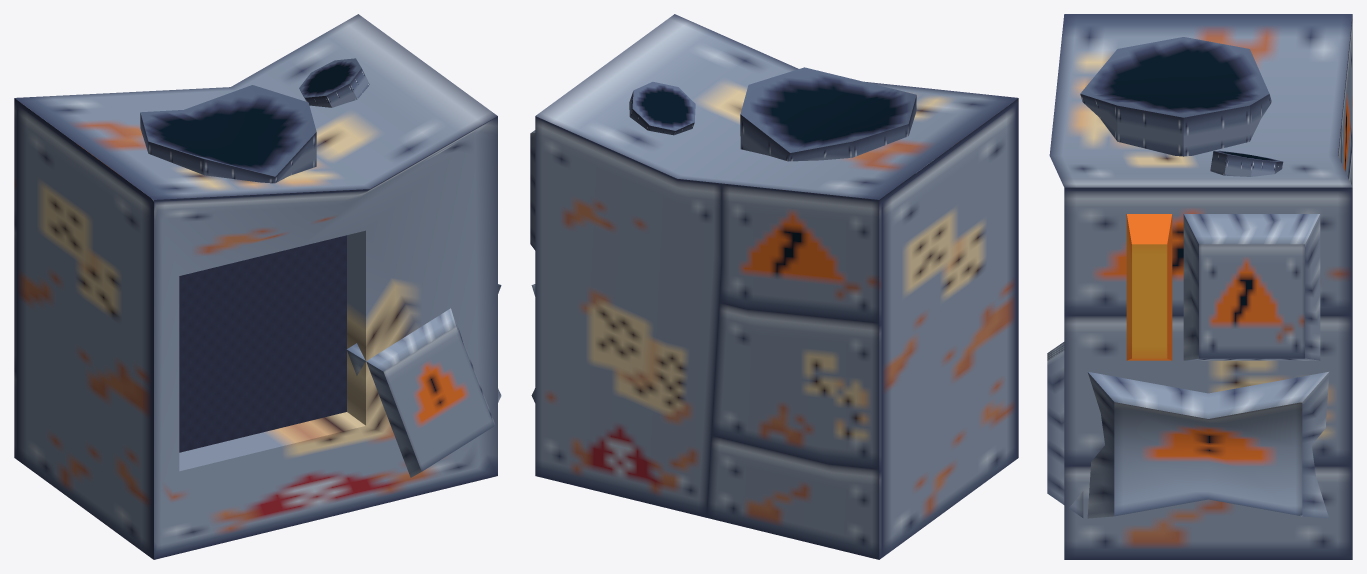
File: TubulacaoQuadradaQuebrada.fbx
3 renders of one model, left to right at view 1: azimuth 30°, elevation 25°; view 2: azimuth 150°, elevation 25°; view 3: azimuth 270°, elevation 25°, orthographic. The views are drawn at different scales.
Parts seen in each view (by area): view 1: Tubulaçao quadrada; view 2: Tubulaçao quadrada; view 3: Tubulaçao quadrada.
Part boxes in pixels (box(x1,y1,x2,y2)): Tubulaçao quadrada: box(14, 14, 501, 559); Tubulaçao quadrada: box(530, 14, 1018, 559); Tubulaçao quadrada: box(1047, 14, 1352, 559).
Size of the model in its own units: 81.87 by 56.26 by 76.56.
